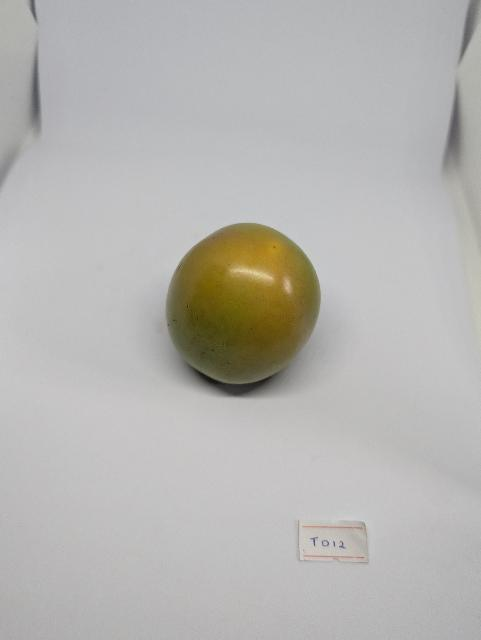breaker: (166, 224, 321, 384)
